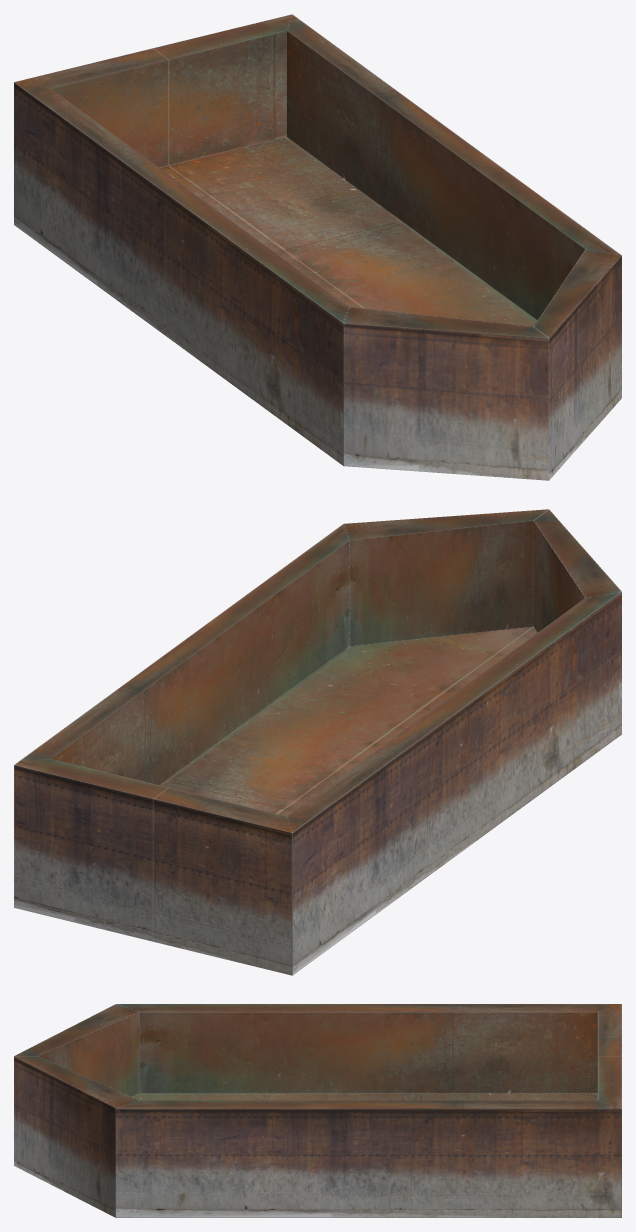
File: Boat.fbx
3 renders of one model, top to bottom at view 1: azimuth 30°, elevation 25°; view 2: azimuth 150°, elevation 25°; view 3: azimuth 270°, elevation 25°, orthographic. The views are drawn at different scales.
Visible parts, largest first — view 1: pCube1; view 2: pCube1; view 3: pCube1.
Boxes of the visible parts, x1,y1,x2,y2 form: pCube1: (14,14,621,480); pCube1: (14,509,621,975); pCube1: (14,1004,621,1217).
Size of the model in its own units: 2.41 by 1.18 by 5.95.
Materials: 1 (1 with a texture image).
